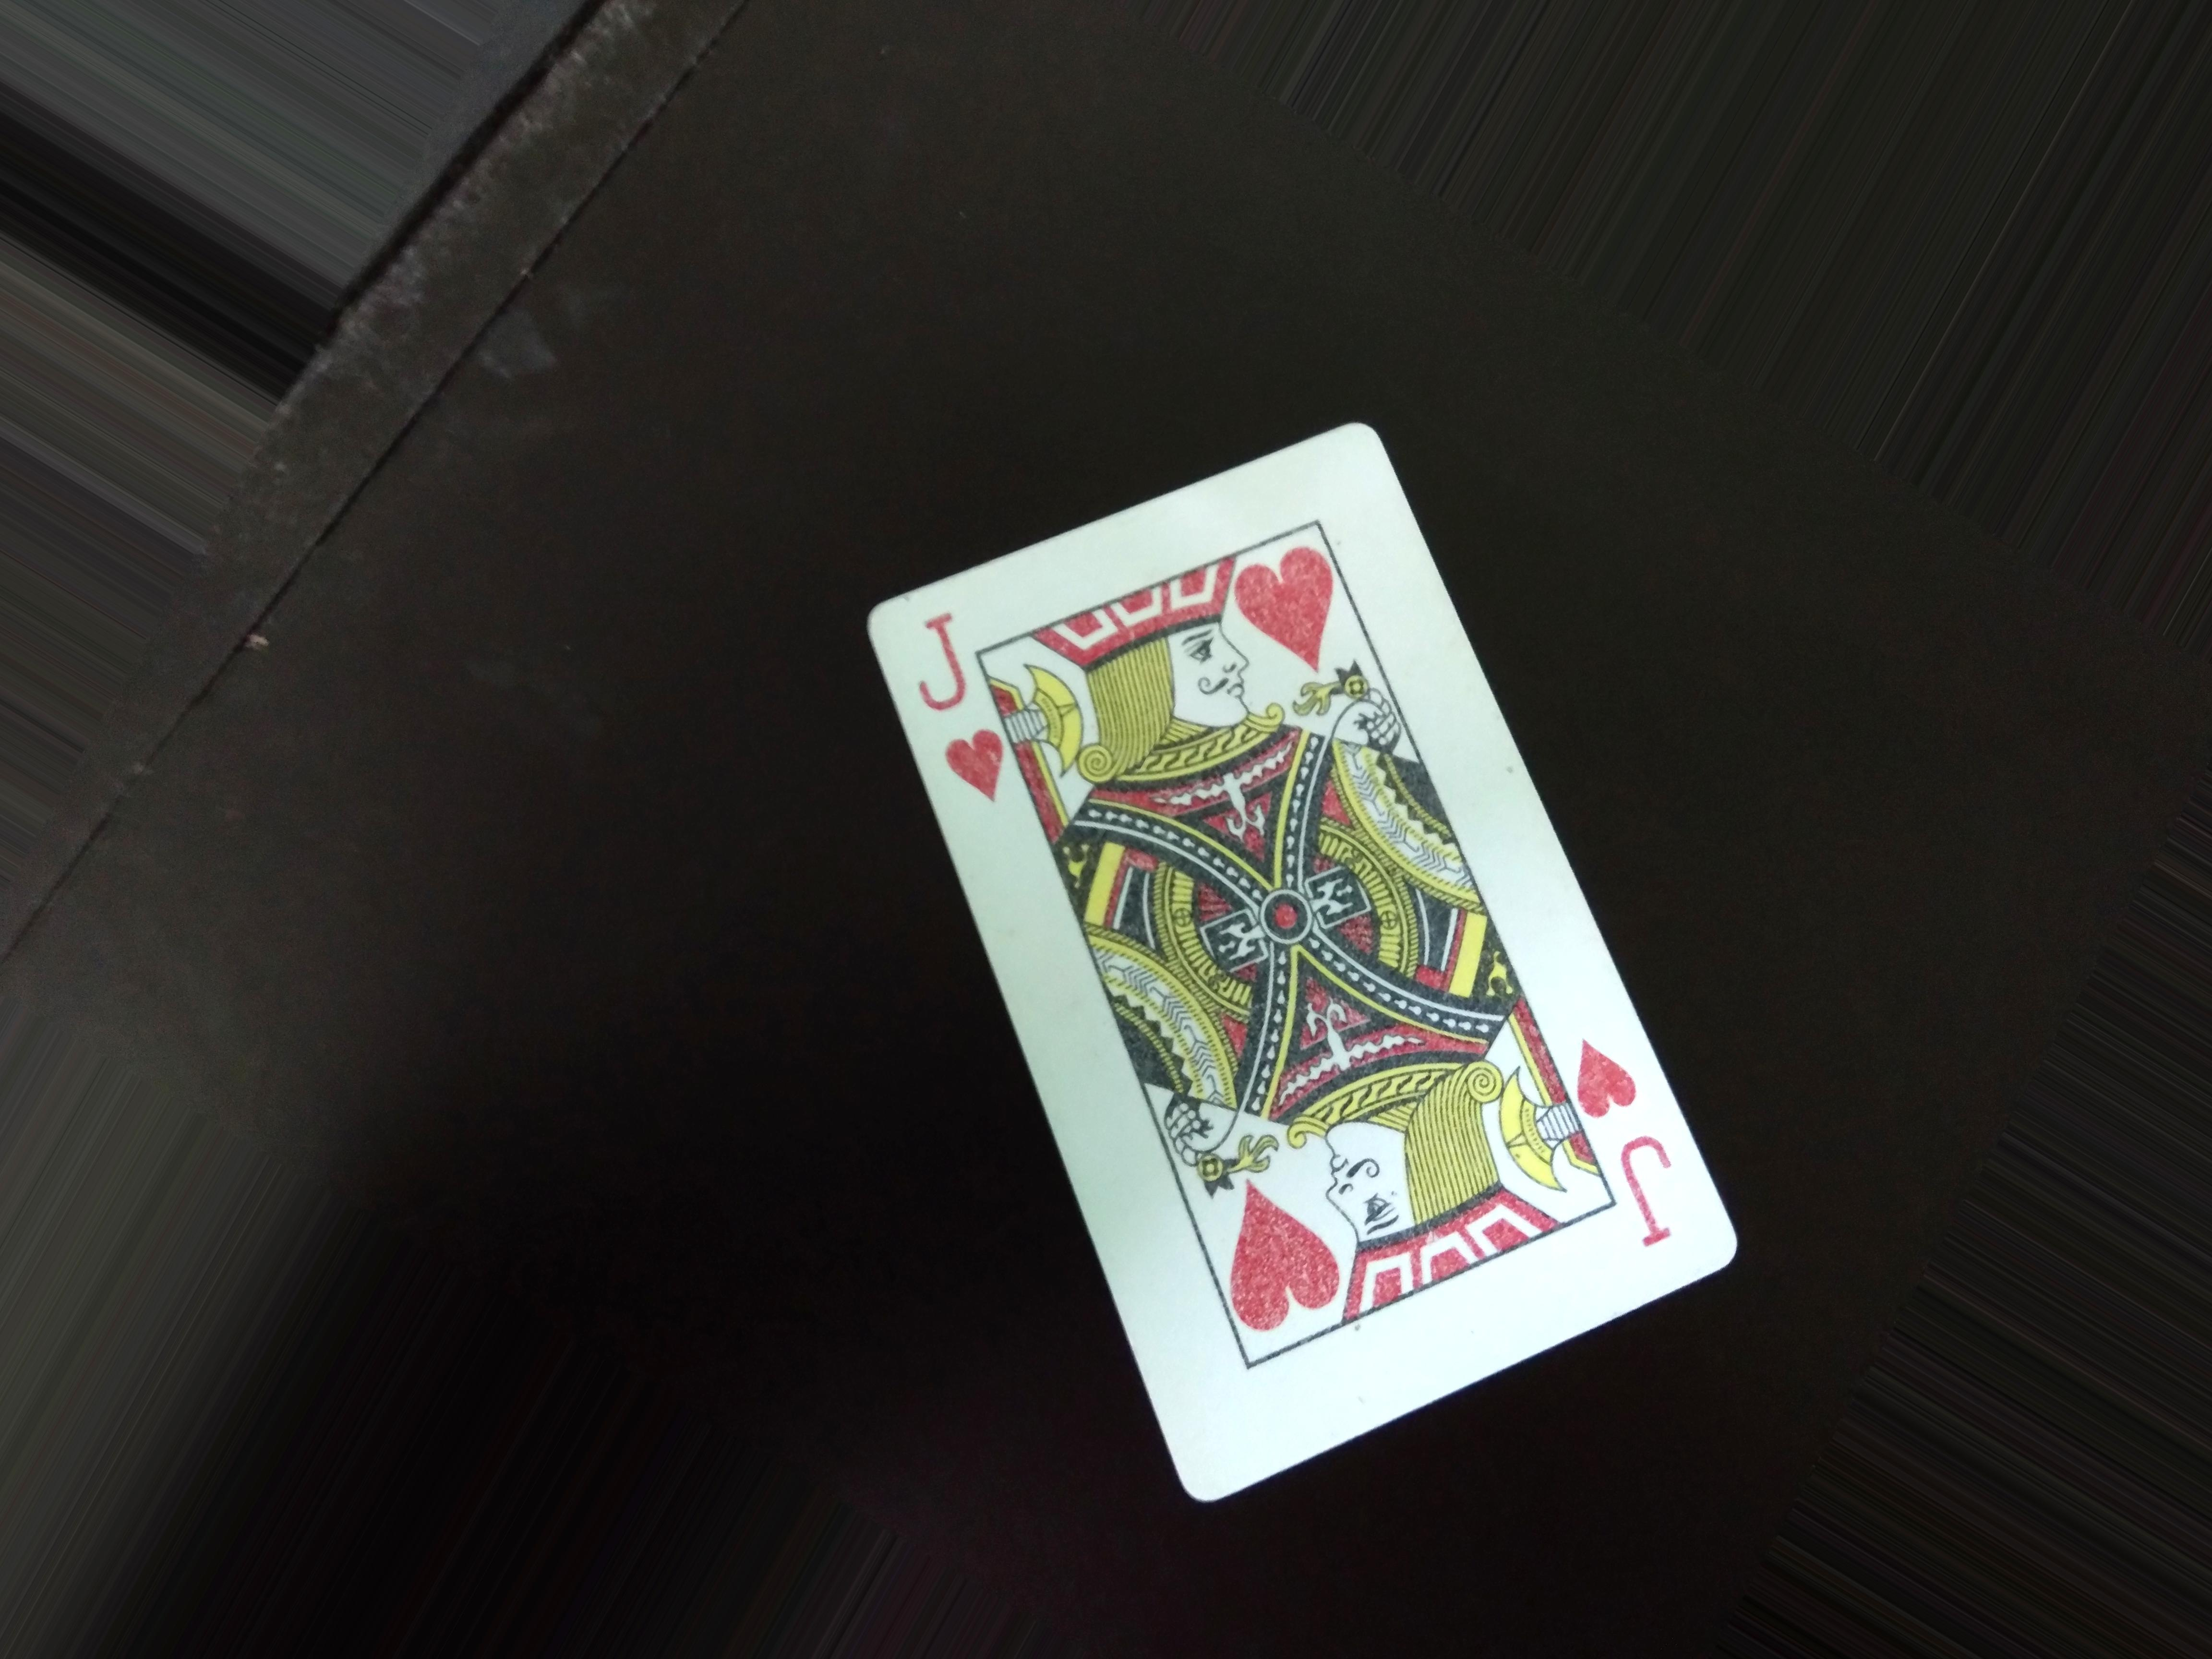JH: (1576, 1021, 1649, 1263)
